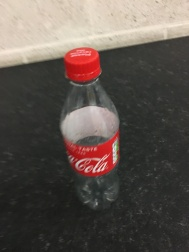bottle_red: (49, 46, 132, 213)
